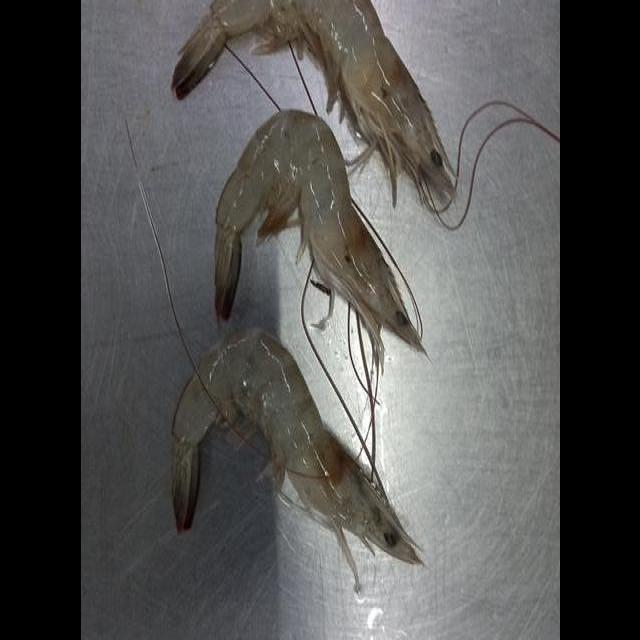shrimp: (172, 330, 421, 592), (172, 0, 455, 207), (214, 112, 425, 357)
